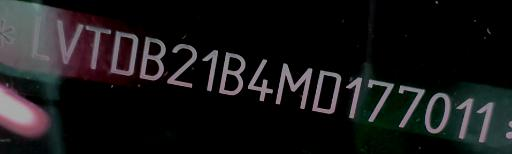letter: (270, 56, 316, 110), (108, 26, 142, 83), (361, 76, 399, 123), (390, 82, 428, 129), (166, 40, 200, 92), (310, 67, 346, 115), (217, 48, 251, 98), (138, 31, 168, 83), (84, 20, 112, 75), (422, 90, 456, 135), (448, 95, 480, 142), (246, 55, 276, 105), (470, 98, 502, 143), (56, 18, 84, 69), (198, 47, 224, 93), (29, 14, 53, 63), (341, 74, 365, 122)
